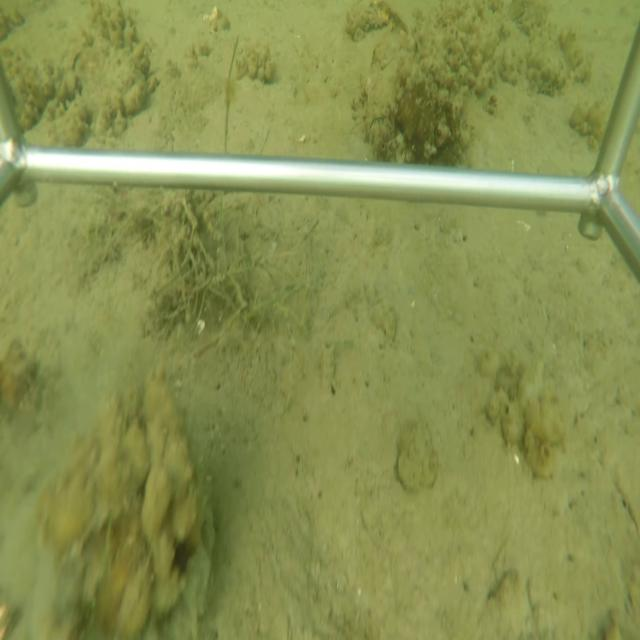Oyster-Indeterminate: (394, 421, 438, 493)
